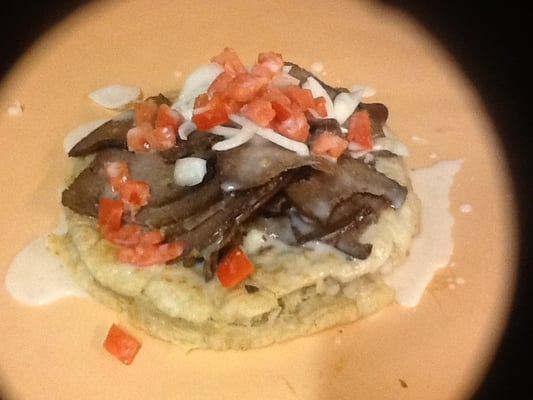soup: (10, 41, 428, 353)
